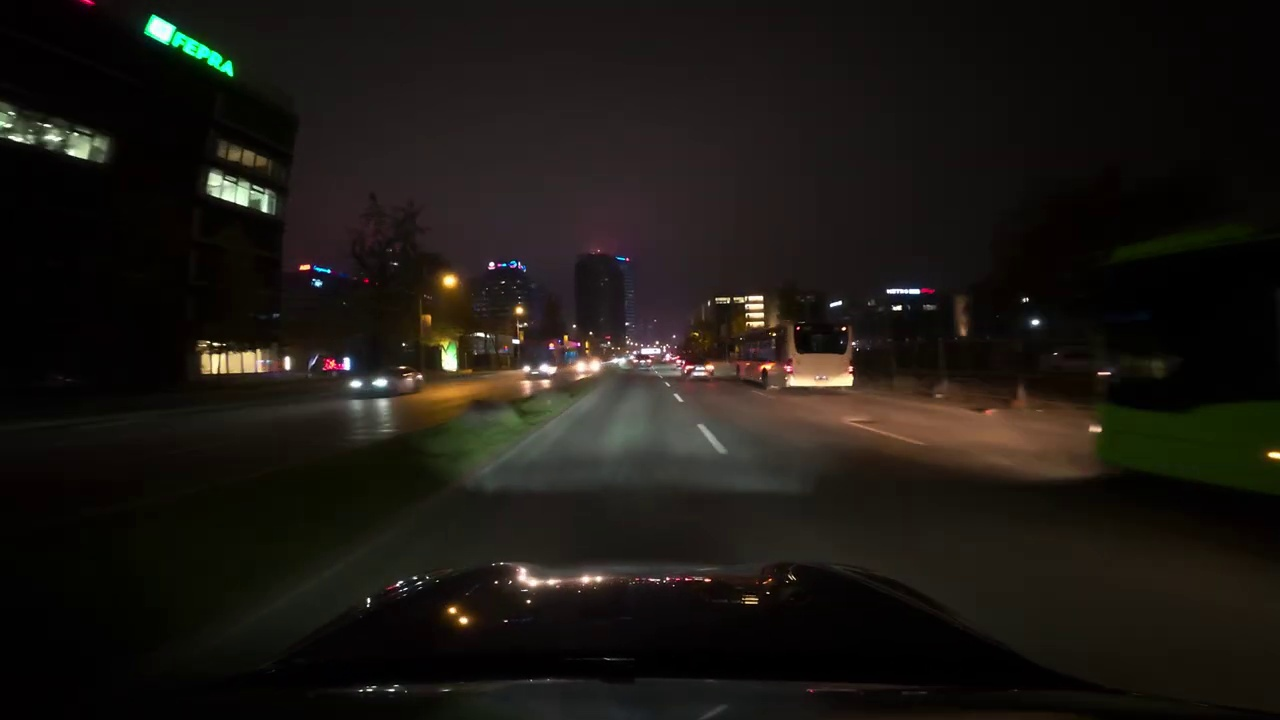acesa: (436, 270, 461, 296)
